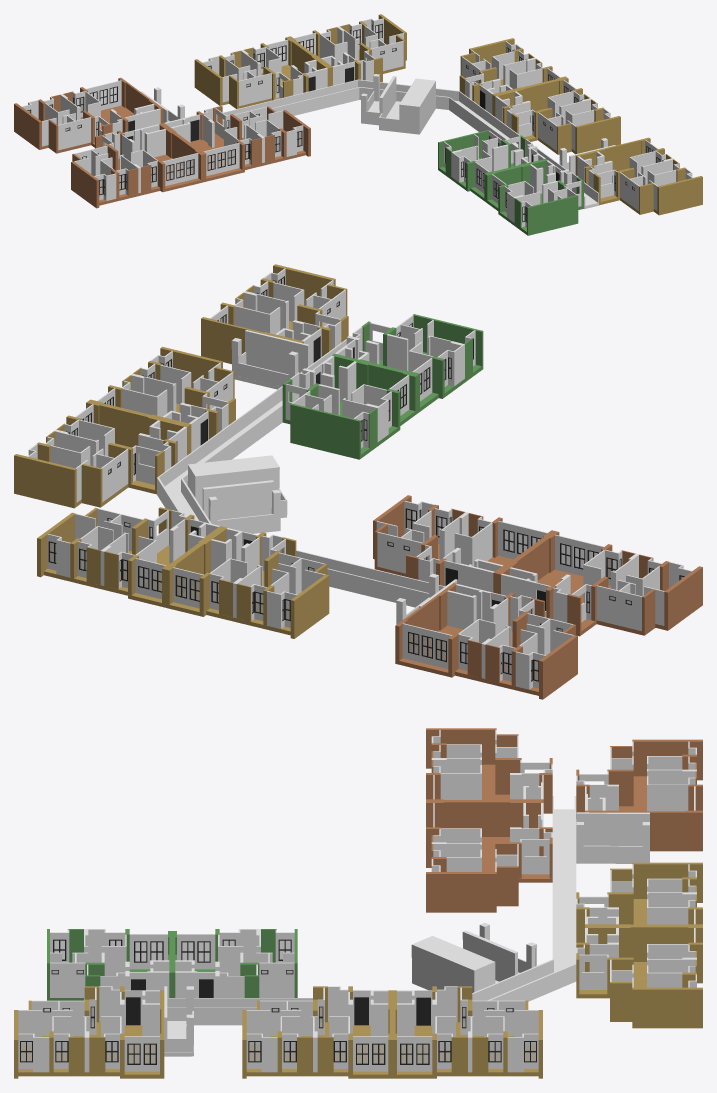
Rendered from cluster1Level.glb.
The picture shows the model from 3 angles, top to bottom: view 1: azimuth 30°, elevation 25°; view 2: azimuth 150°, elevation 25°; view 3: azimuth 270°, elevation 25°; orthographic projection. The views are drawn at different scales.
Parts seen in each view (by area): view 1: levelWall, level4room, level5room, level3room, levelWindowFrame, levelGlass; view 2: levelWall, level4room, level5room, level3room, levelWindowFrame, levelGlass; view 3: levelWall, level4room, level5room, levelWindowFrame, levelGlass, level3room.
Boxes of the visible parts, x1,y1,x2,y2 form: levelWall: (22,18,692,227); level4room: (194,14,702,215); level5room: (14,77,310,208); level3room: (438,130,583,235); levelWindowFrame: (27,23,664,222); levelGlass: (28,24,660,221); levelWall: (28,268,691,689); level4room: (14,264,348,638); level5room: (373,495,702,699); level3room: (282,314,483,459); levelWindowFrame: (48,276,684,681); levelGlass: (50,278,683,680); levelWall: (18,730,696,1072); level4room: (14,862,702,1078); level5room: (426,728,702,912); levelWindowFrame: (20,939,536,1064); levelGlass: (21,940,535,1063); level3room: (47,929,297,1000).
Bounding box in the file's own units: 50.06 × 2.94 × 46.75.
